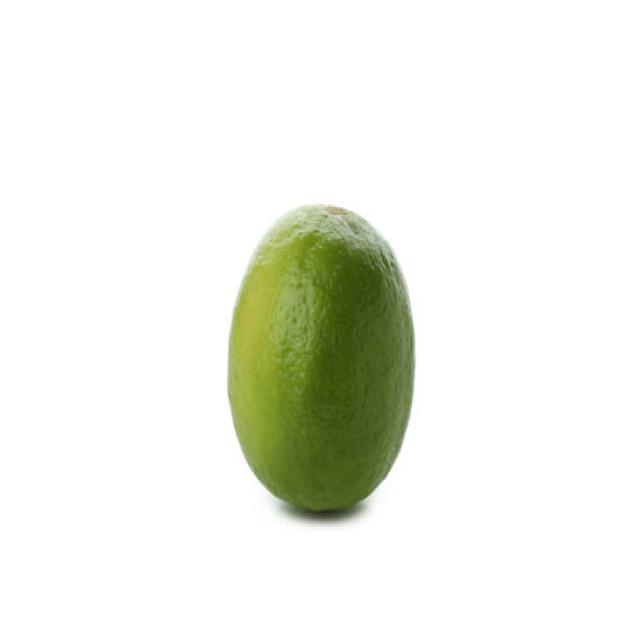Lemon: (227, 199, 416, 516)
